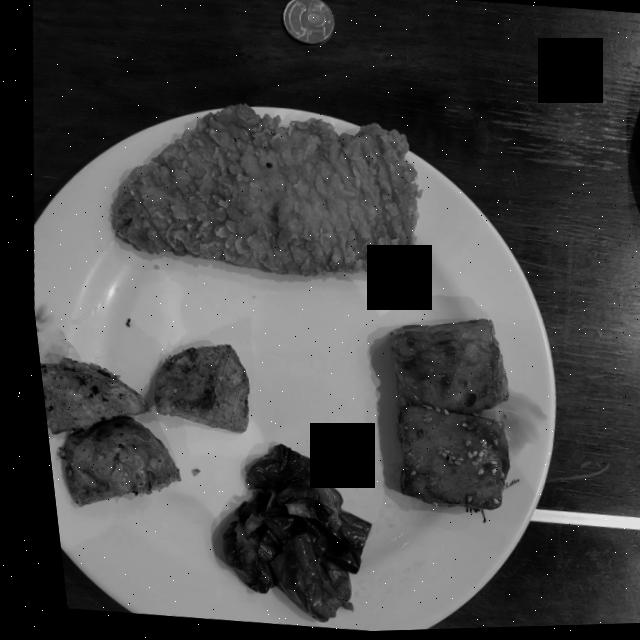coin: (282, 0, 333, 46)
creamy tofu: (381, 322, 498, 512)
fried chicken cutlet: (110, 106, 414, 281)
fried potato: (32, 358, 168, 505), (144, 346, 239, 434)
